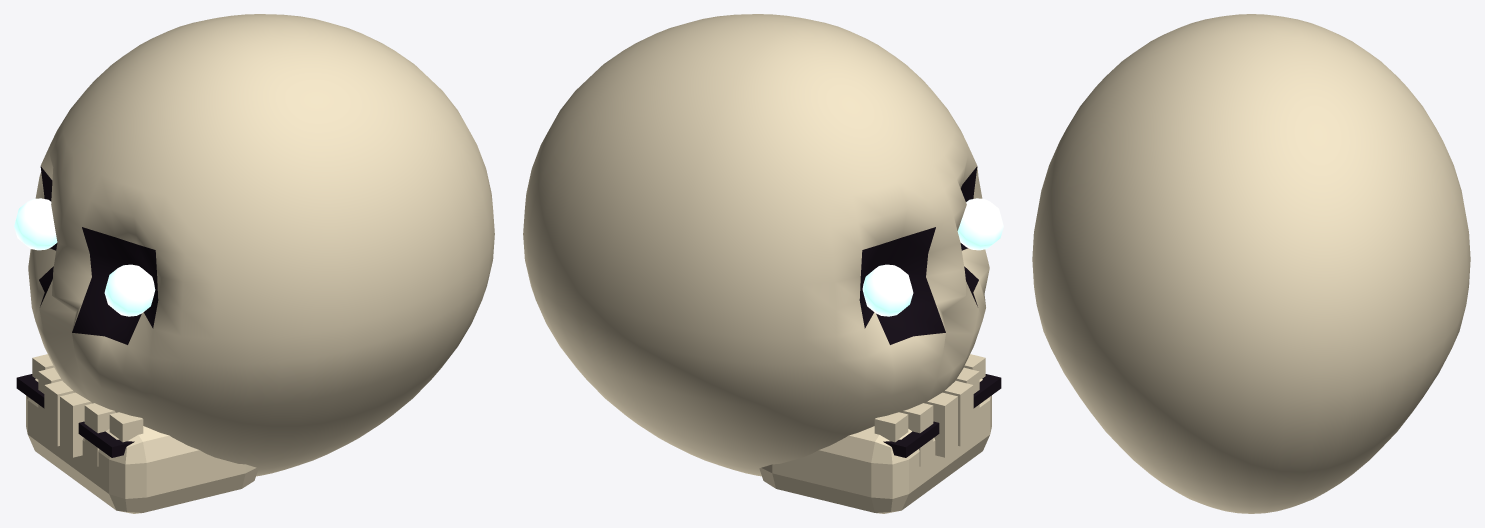
File: skull.glb
3 renders of one model, left to right at view 1: azimuth 30°, elevation 25°; view 2: azimuth 150°, elevation 25°; view 3: azimuth 270°, elevation 25°, orthographic. The views are drawn at different scales.
Visible parts, largest first — view 1: skull.001; view 2: skull.001; view 3: skull.001.
Part boxes in pixels (<box>): skull.001: <box>14,14,494,513</box>; skull.001: <box>523,14,1003,513</box>; skull.001: <box>1032,14,1470,513</box>.
Bounding box in the file's own units: 1.02 × 1 × 0.88.
